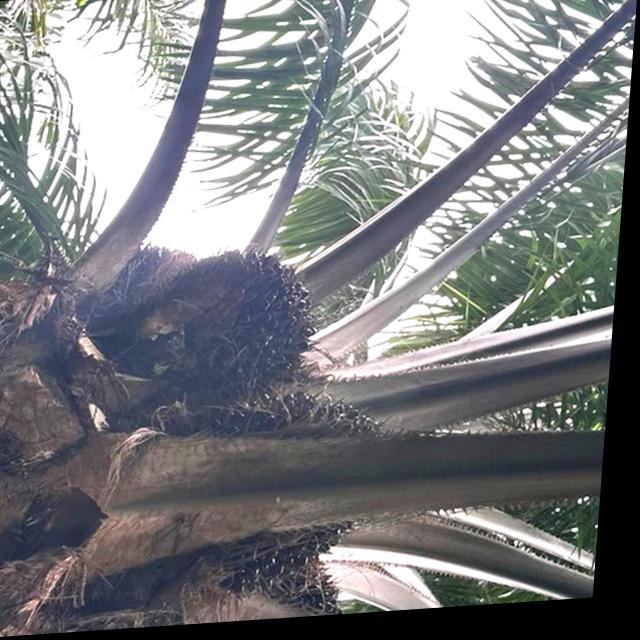unripe: (197, 391, 409, 599), (158, 242, 328, 403)
